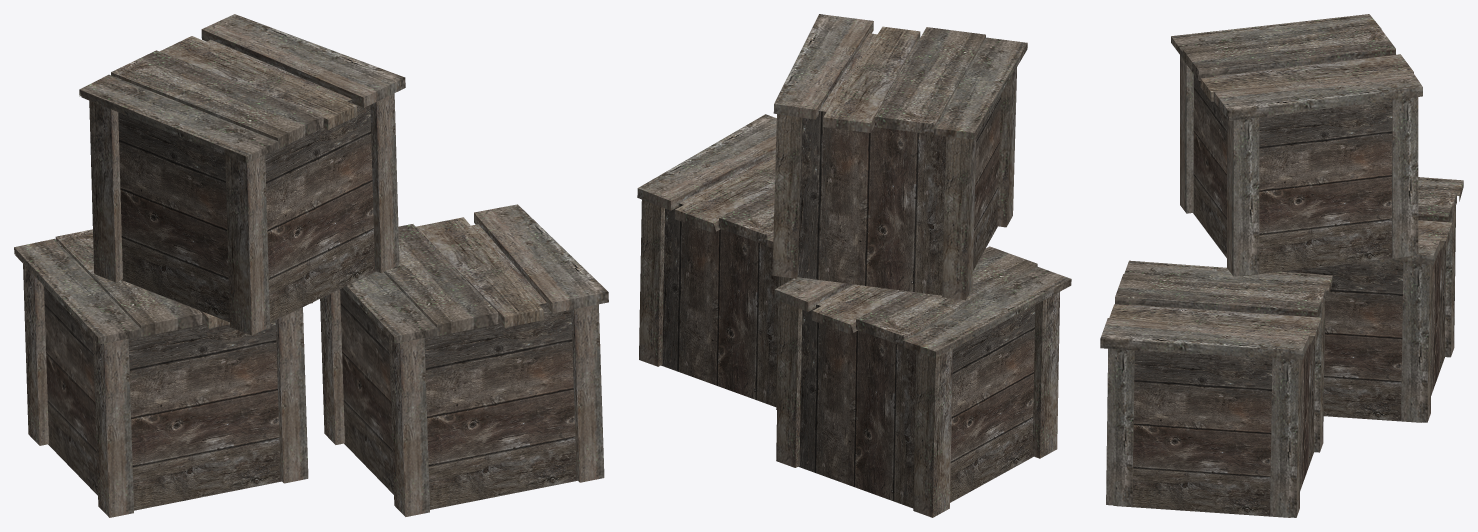
File: props_box_01.FBX
The picture shows the model from 3 angles, left to right: view 1: azimuth 30°, elevation 25°; view 2: azimuth 150°, elevation 25°; view 3: azimuth 270°, elevation 25°; orthographic projection. The views are drawn at different scales.
Visible parts, largest first — view 1: props_box_01; view 2: props_box_01; view 3: props_box_01.
Part boxes in pixels (left/top/right/bottom): props_box_01: left=14, top=14, right=608, bottom=517; props_box_01: left=637, top=14, right=1071, bottom=517; props_box_01: left=1100, top=14, right=1463, bottom=517.
Size of the model in its own units: 229 by 192 by 183.
